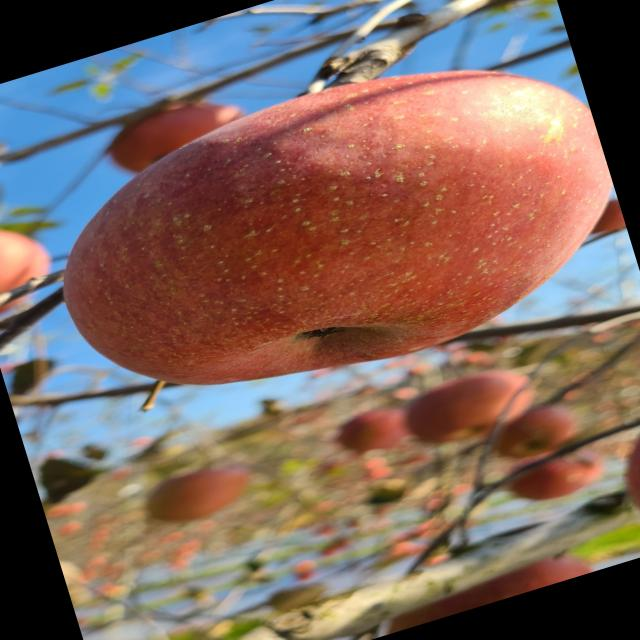fresh: (10, 10, 640, 455)
